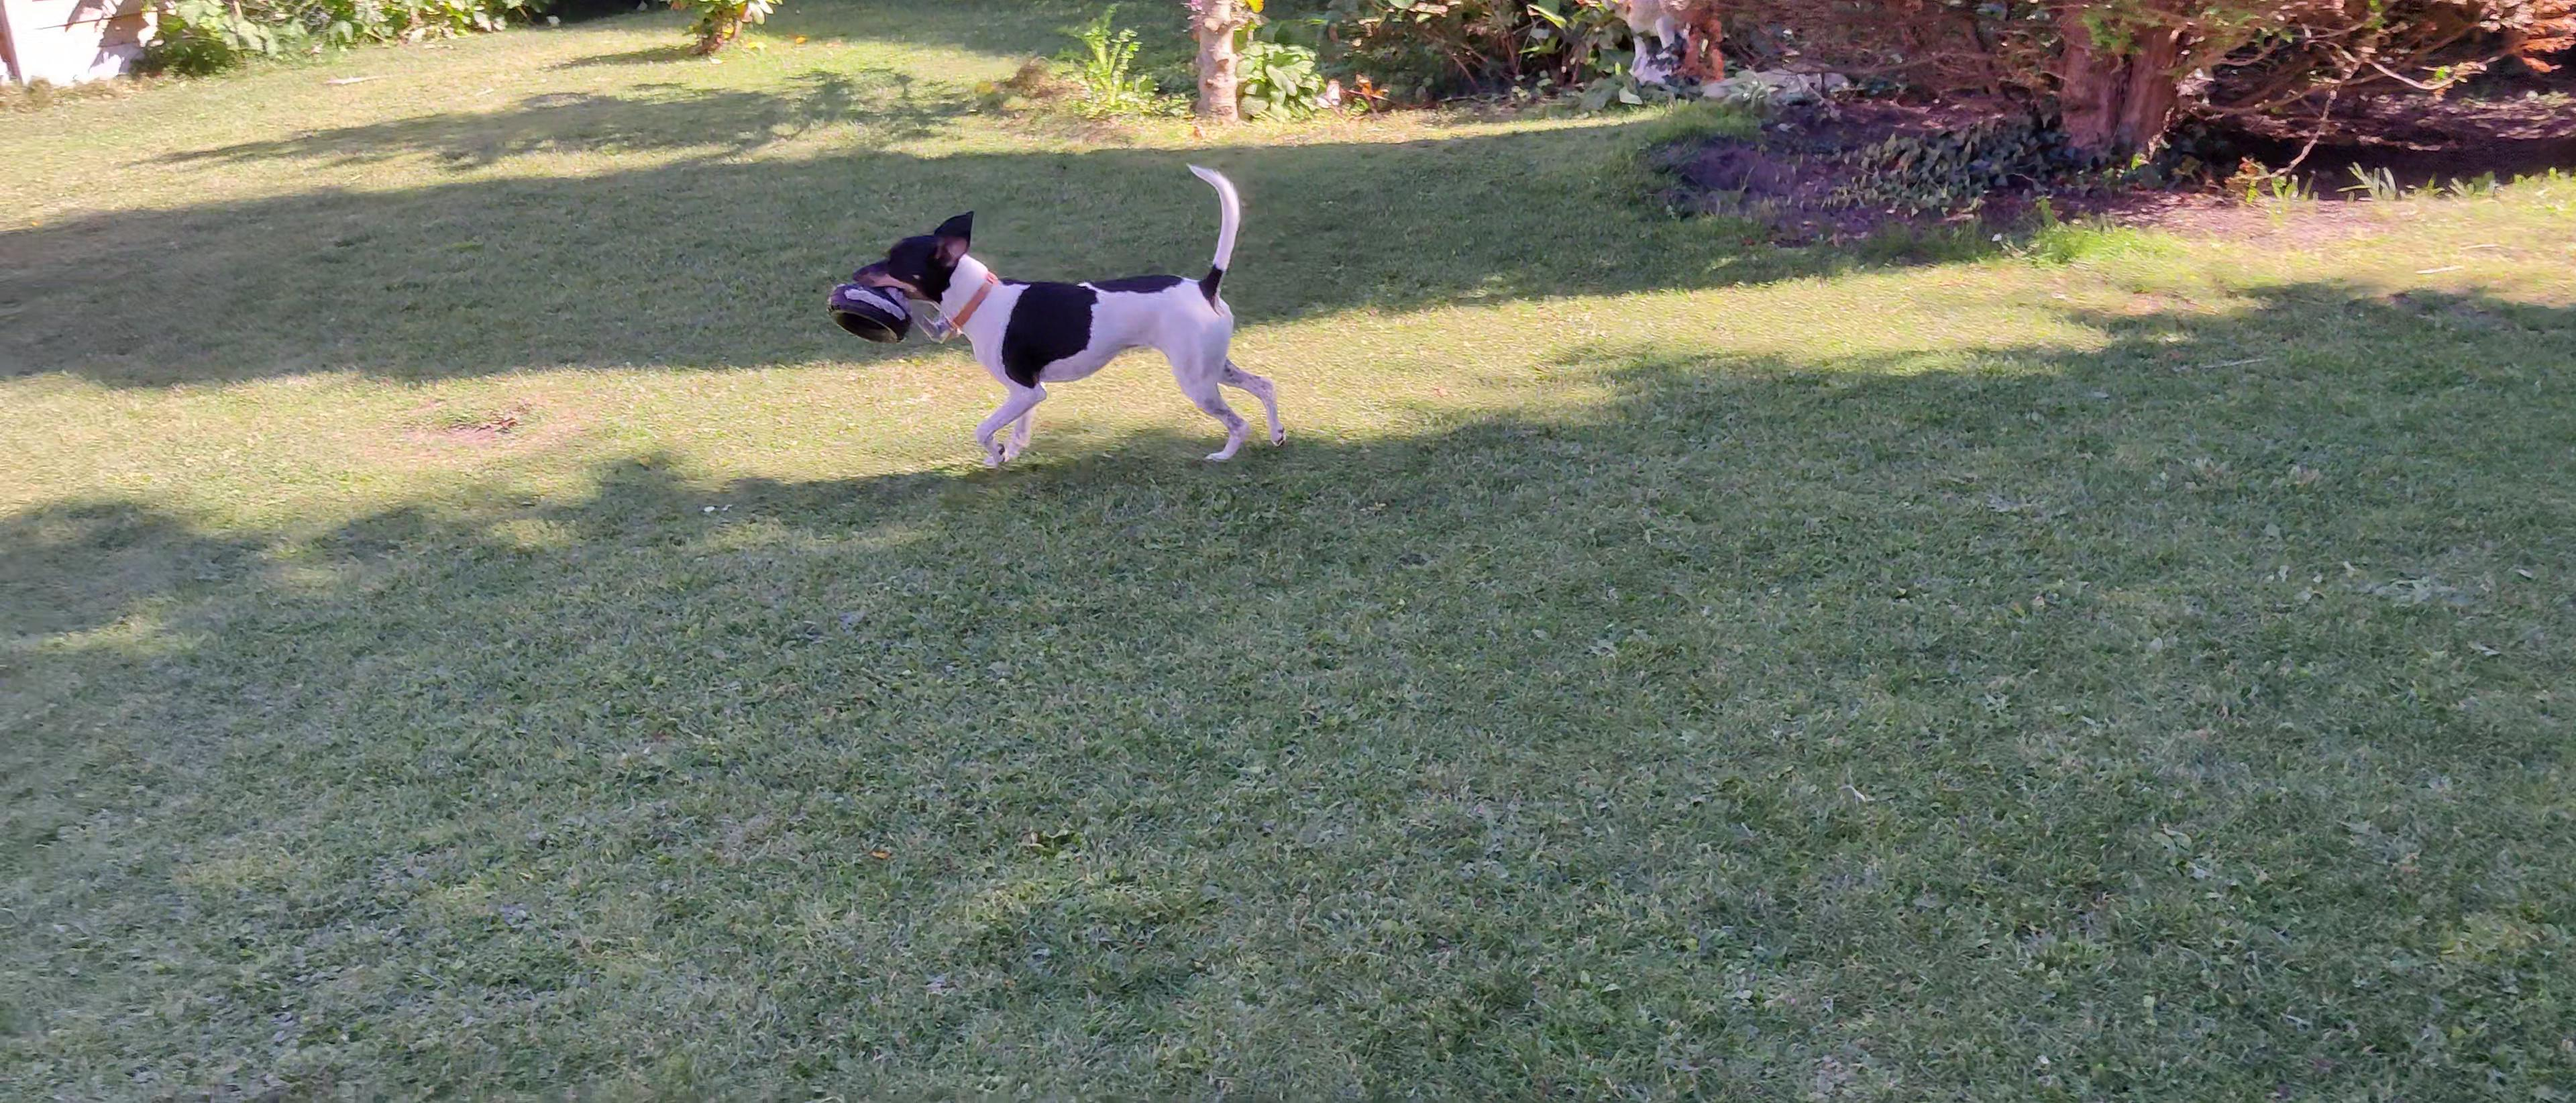Dog: (848, 158, 1298, 475)
